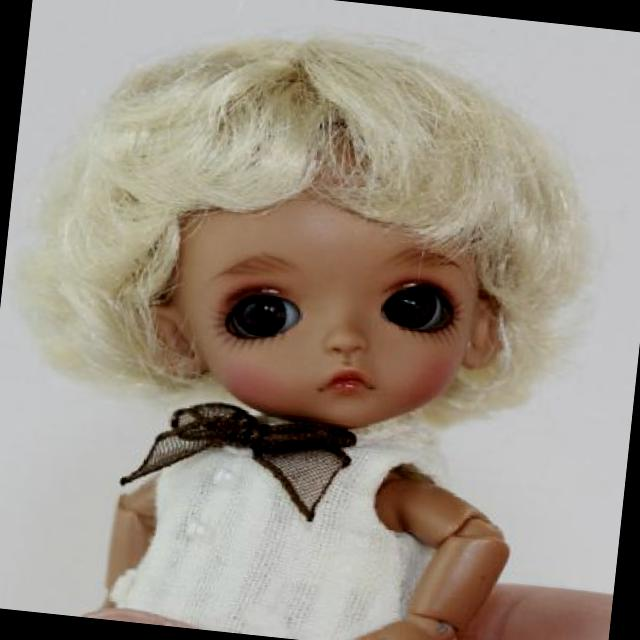Person: (0, 3, 590, 640)
